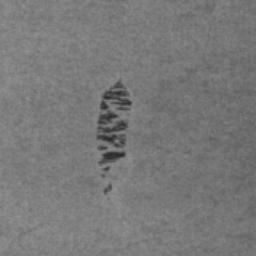Secondary rust skin: (96, 81, 133, 172), (103, 184, 113, 195)
